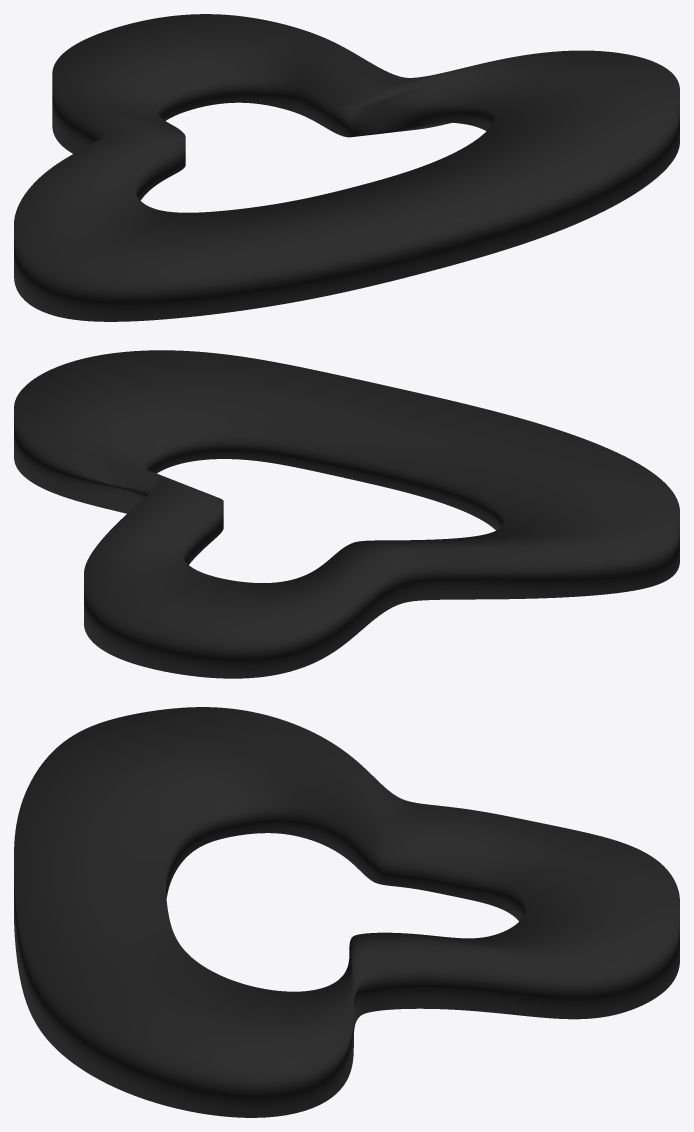
The model's file is colliderExterno.fbx.
3 renders of one model, top to bottom at view 1: azimuth 30°, elevation 25°; view 2: azimuth 150°, elevation 25°; view 3: azimuth 270°, elevation 25°, orthographic. The views are drawn at different scales.
Parts seen in each view (by area): view 1: NurbsPath.001; view 2: NurbsPath.001; view 3: NurbsPath.001.
Boxes of the visible parts, x1=… form: NurbsPath.001: x1=14, y1=14, x2=679, y2=321; NurbsPath.001: x1=14, y1=350, x2=679, y2=678; NurbsPath.001: x1=14, y1=707, x2=679, y2=1117.
Size of the model in its own units: 6081 by 707 by 4745.
